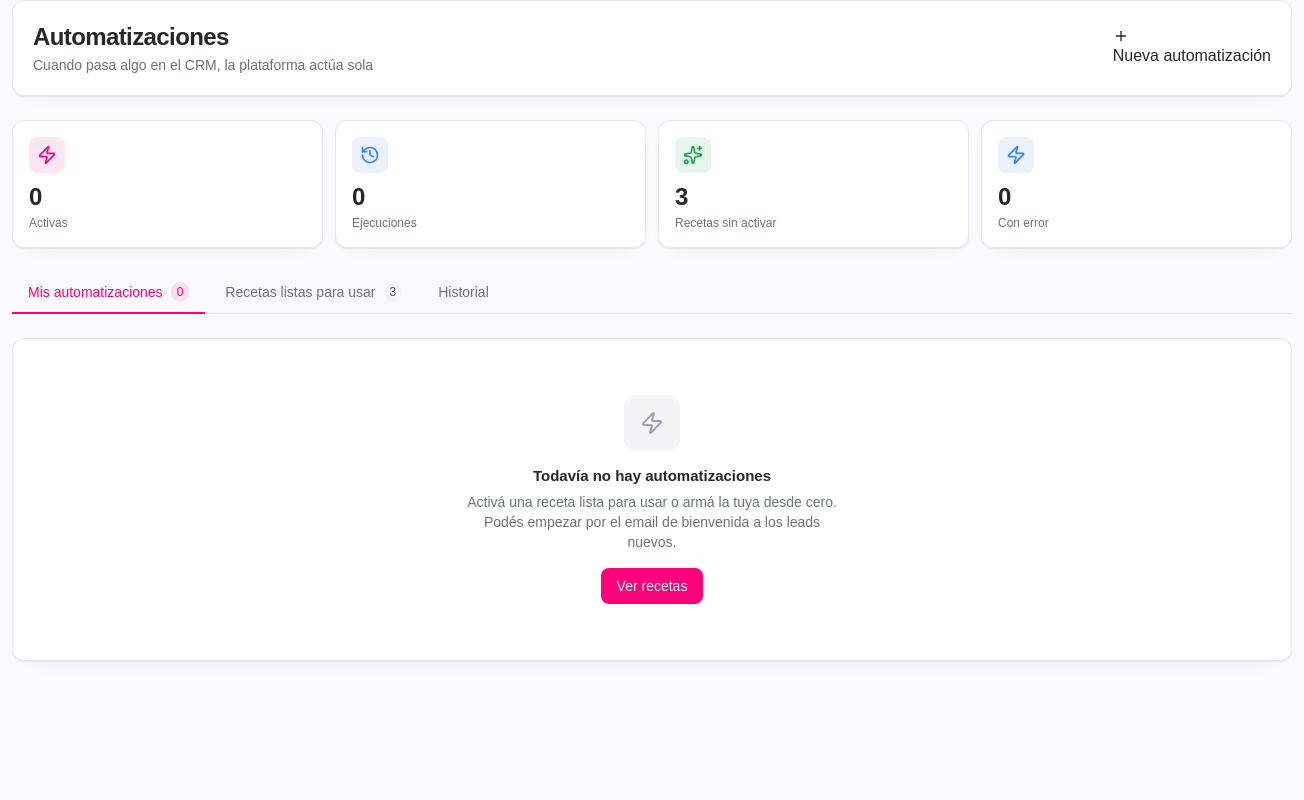
Galería de recetas › esconde las ya activadas para que la galería muestre sólo lo que falta
The width and height of the screenshot is (1304, 800).
What coordinates should you click on to do the following:
click the tab "Recetas listas para usar 3"
I would click on:
 (314, 293)
Its box is [209,272,418,314].
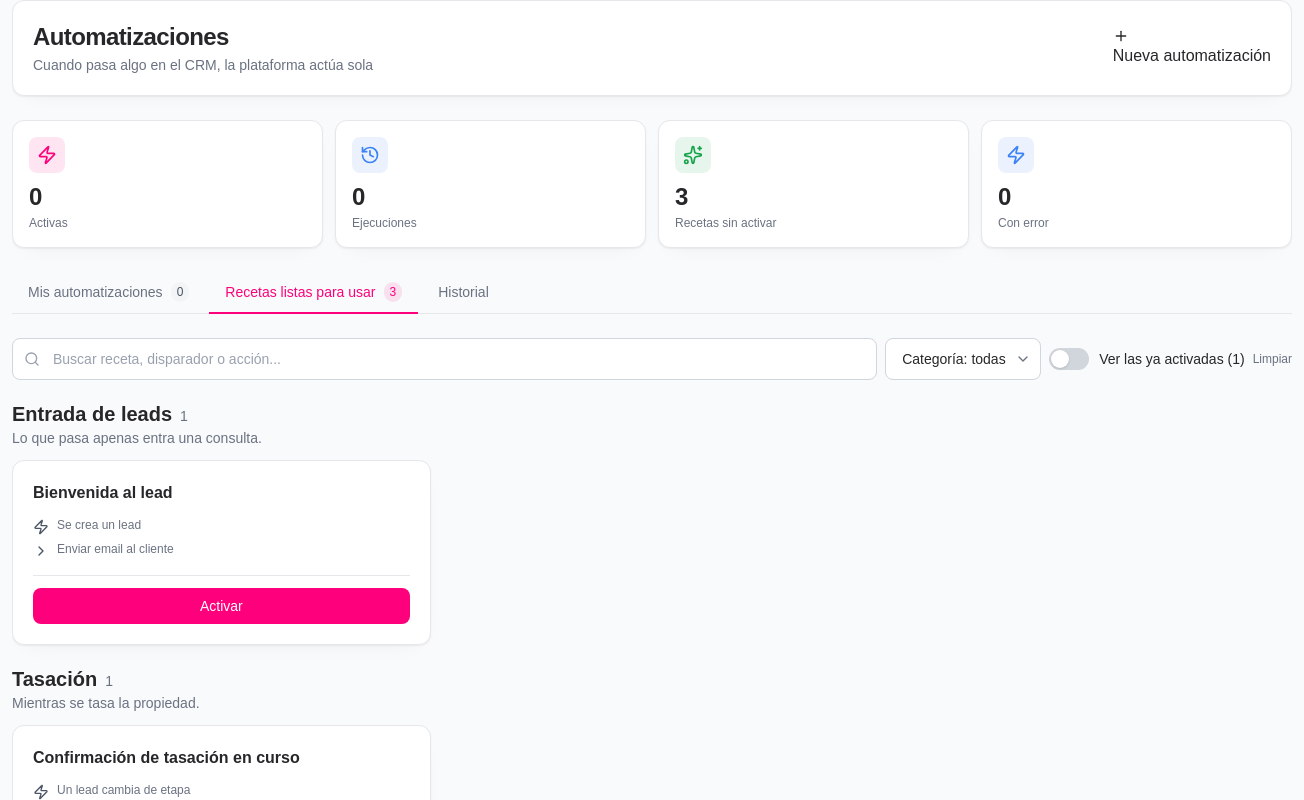
Expected: the text "Lead de portal" is not shown
Now the heading "Bienvenida al lead" is shown, box [33,481,173,505]
What coordinates should you click on to do the following:
click the switch named "Ver las ya activadas"
I would click on:
 (1069, 359)
Its box is [1049,348,1089,370].
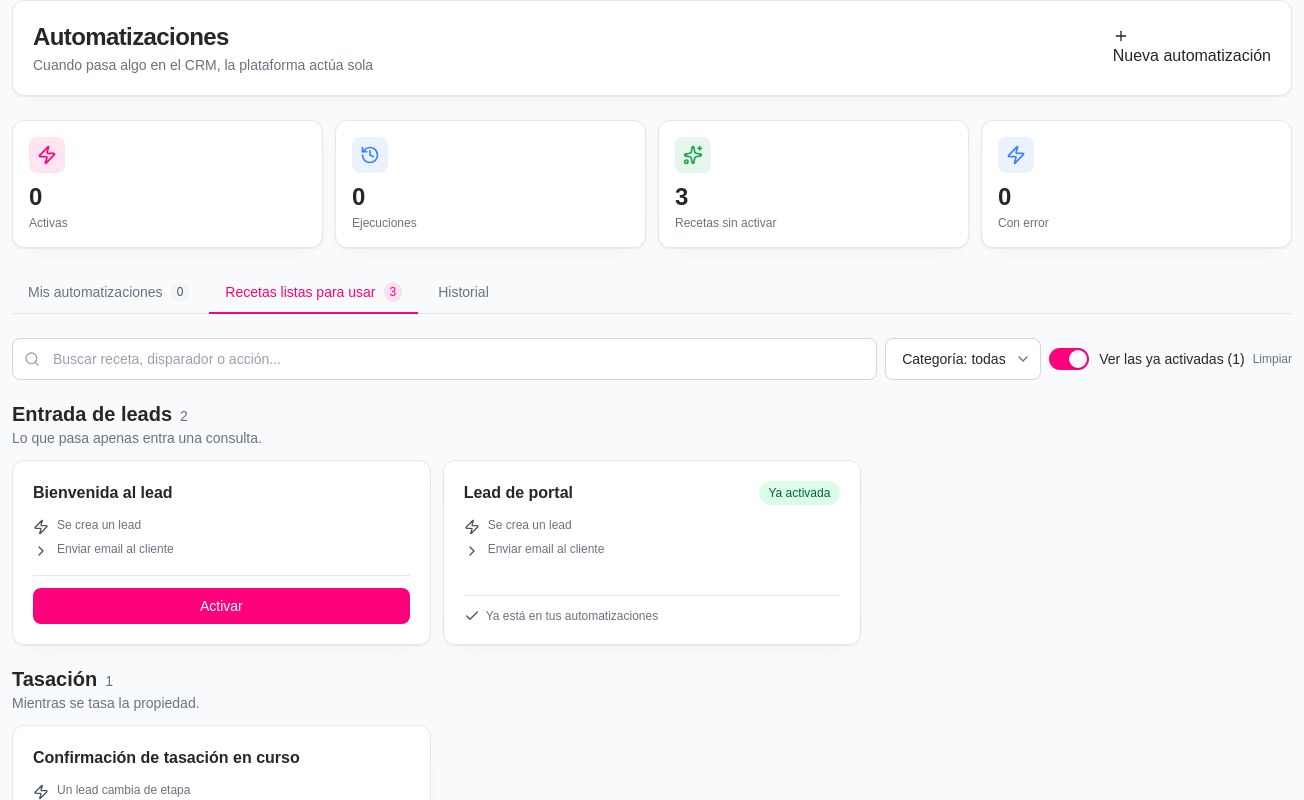
Now the heading "Lead de portal" is shown, box [464,481,573,505]
